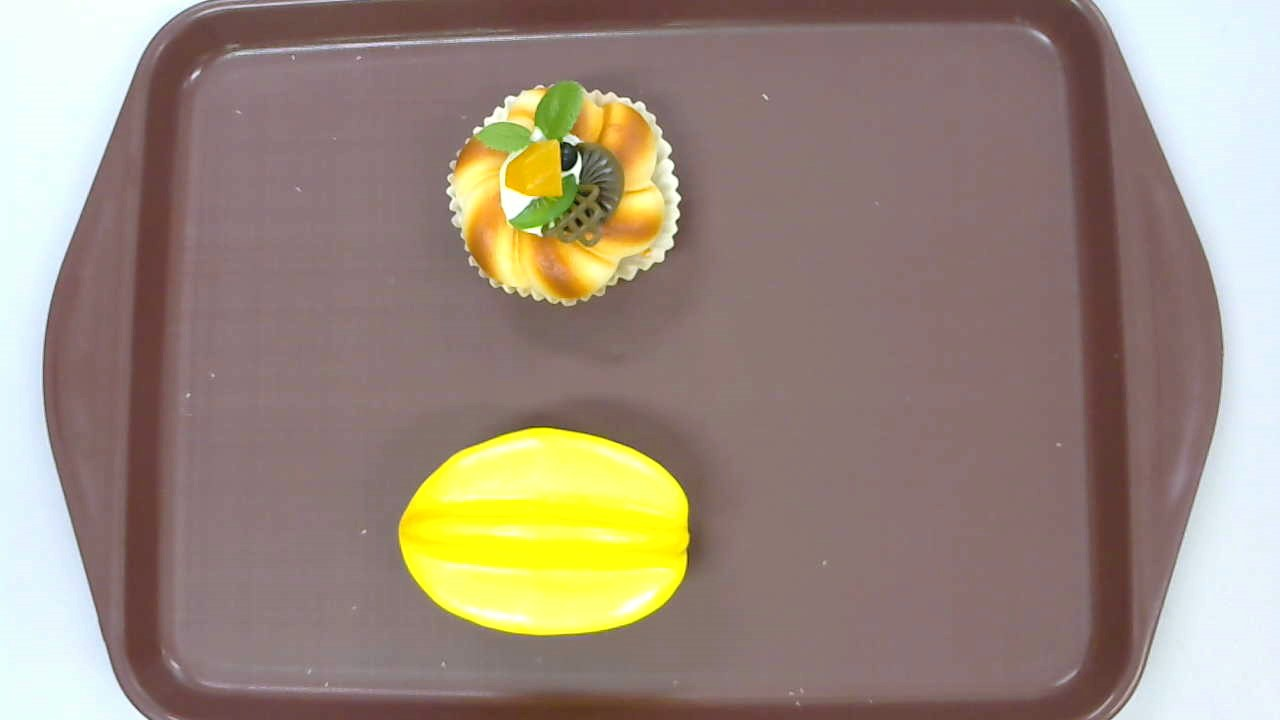fruit tart: (445, 81, 683, 308)
star fruit: (398, 425, 690, 635)
